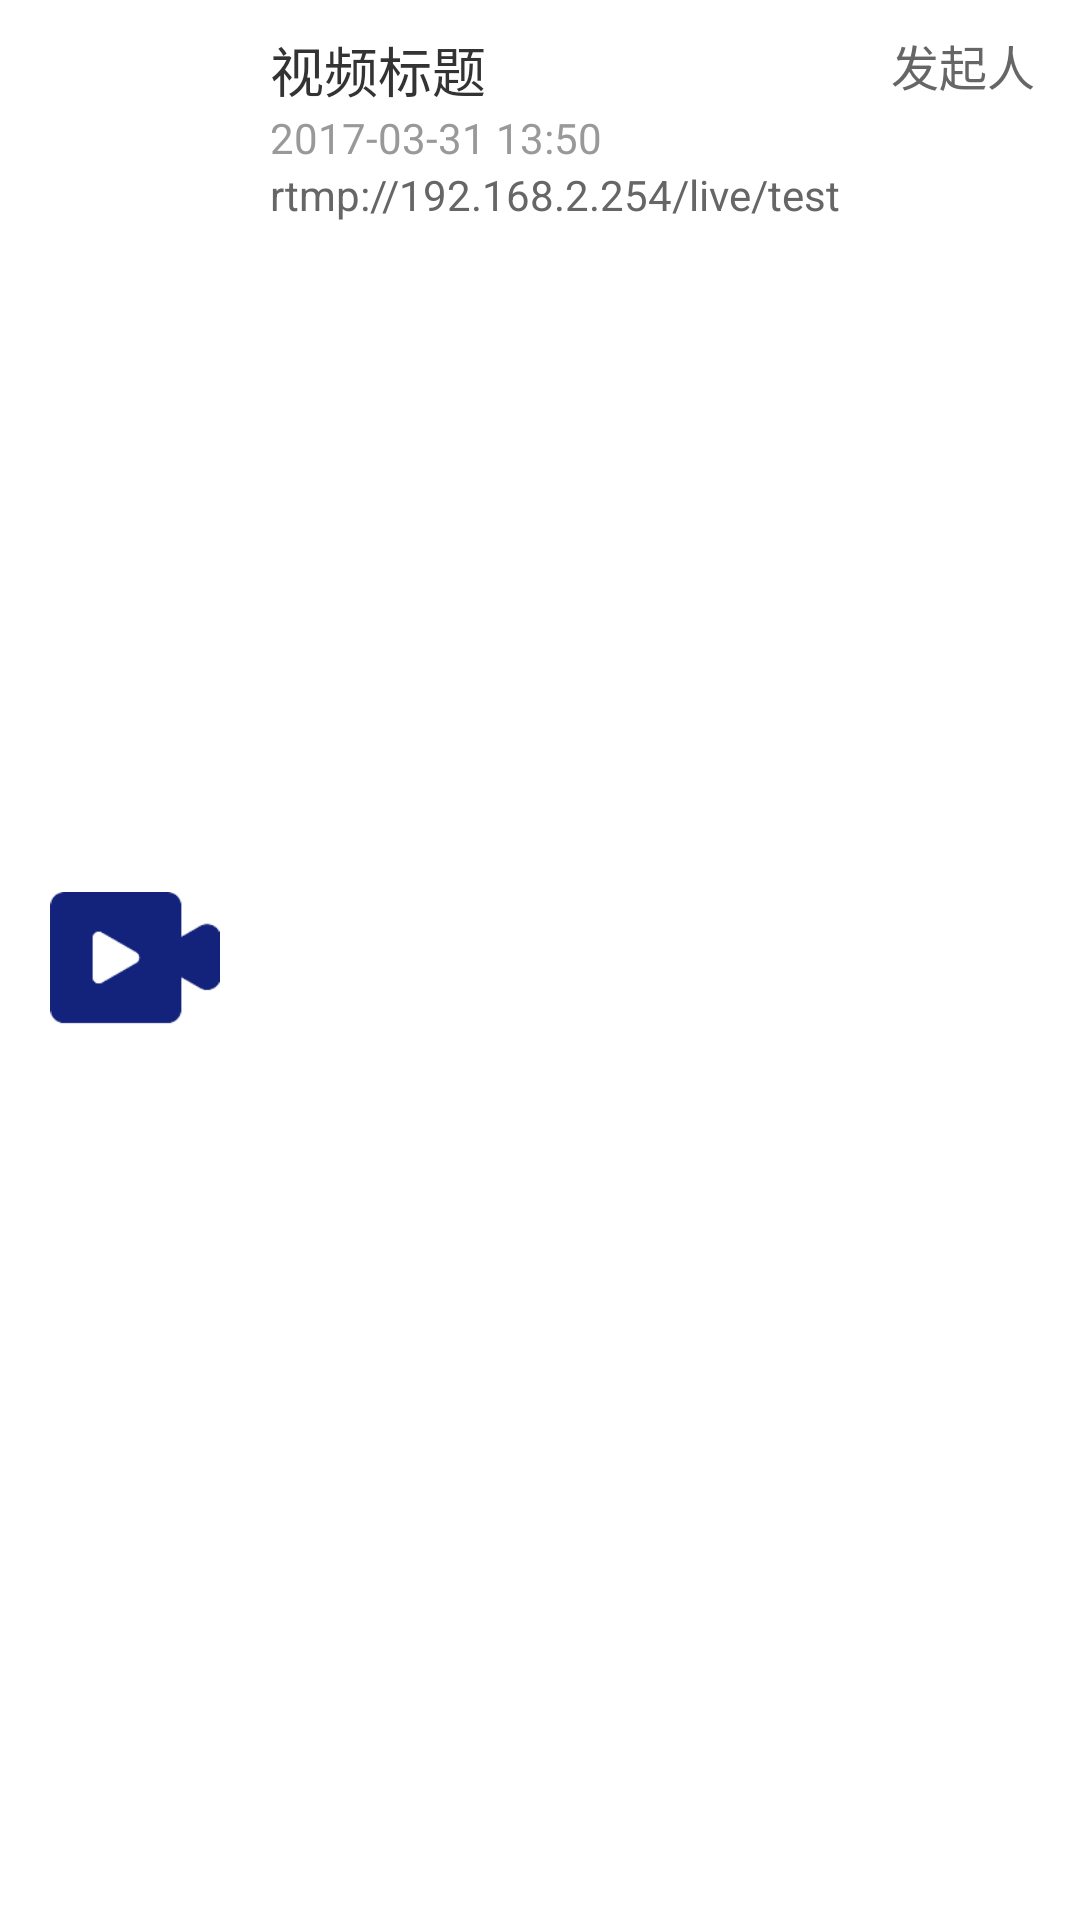

Where icons sit on this 1080w x 1920h app screen, as (x1, y1, x2, y2):
video: (50, 892, 220, 1024)
